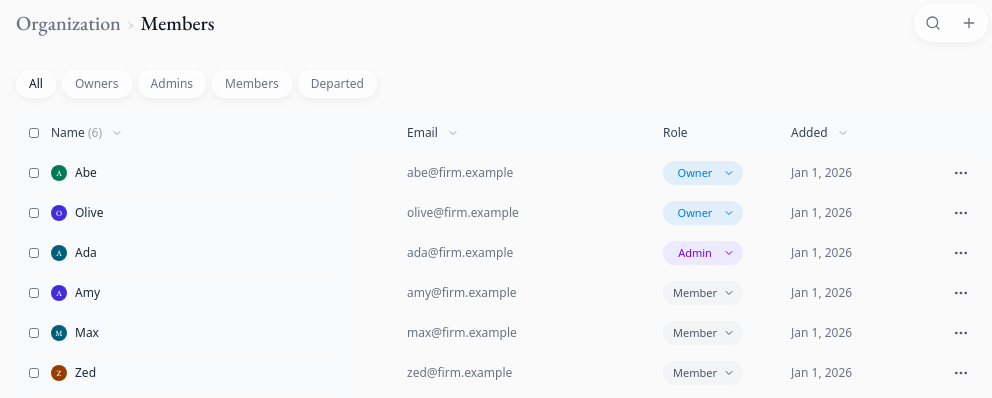
Test: OrganizationMembers › the role tabs › shows only that role under Members, and counts it
Expected: the text "Olive" is shown, [75,205,103,221]
Step 1. Click the button "Members" → (252, 84), box [212,70,292,98]
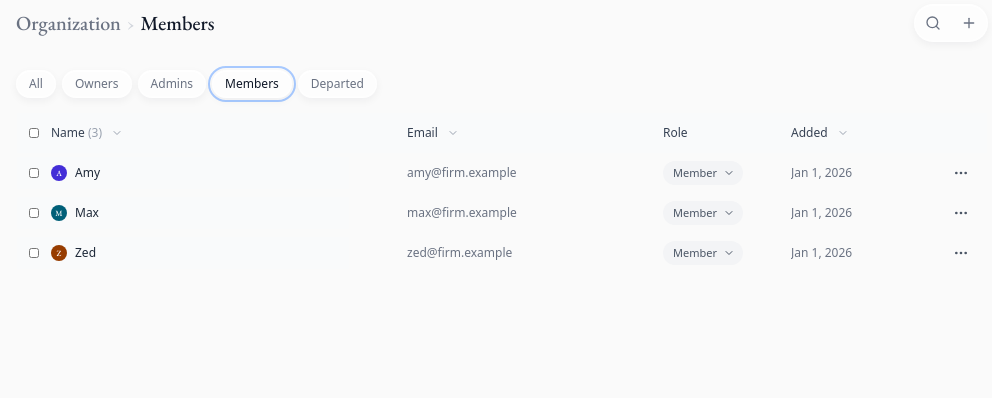
Now the text "(3)" is shown, box [88,124,102,141]
